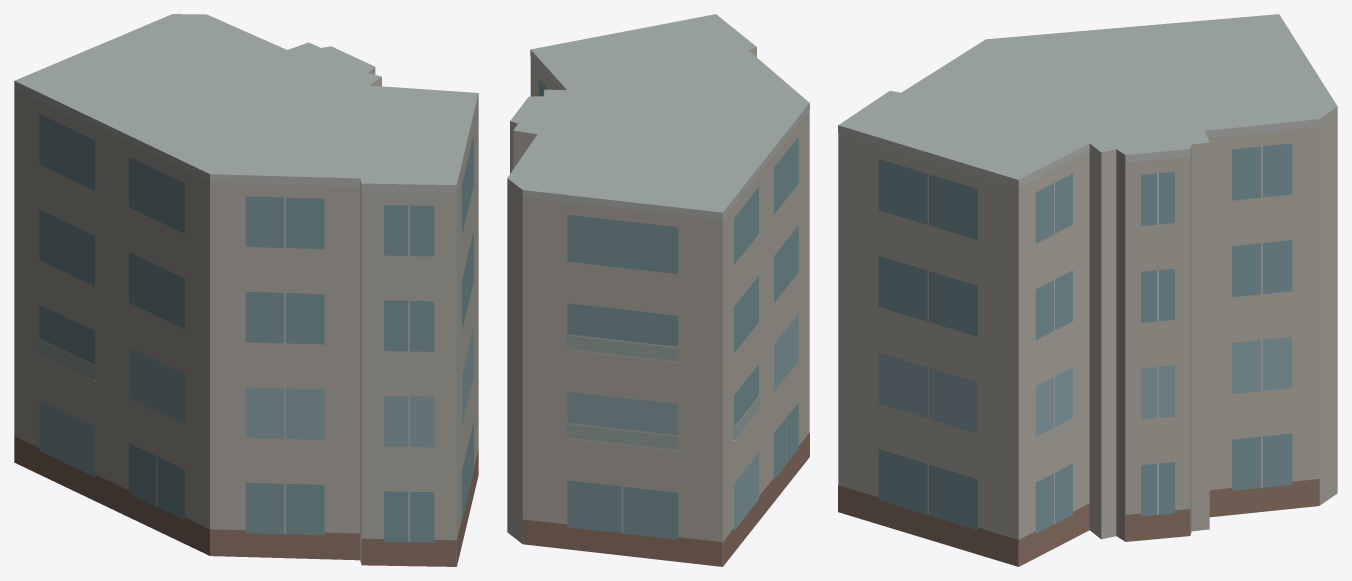
The model's file is survey-upis-32714544.glb.
The picture shows the model from 3 angles, left to right: view 1: azimuth 30°, elevation 25°; view 2: azimuth 150°, elevation 25°; view 3: azimuth 270°, elevation 25°; orthographic projection. The views are drawn at different scales.
Parts seen in each view (by area): view 1: survey-upis-32714544.tmp; view 2: survey-upis-32714544.tmp; view 3: survey-upis-32714544.tmp.
Boxes of the visible parts, left/top/right/bottom form: survey-upis-32714544.tmp: left=14, top=14, right=478, bottom=566; survey-upis-32714544.tmp: left=507, top=14, right=809, bottom=566; survey-upis-32714544.tmp: left=838, top=14, right=1337, bottom=566.
Bounding box in the file's own units: 11.24 × 12.2 × 14.28.
